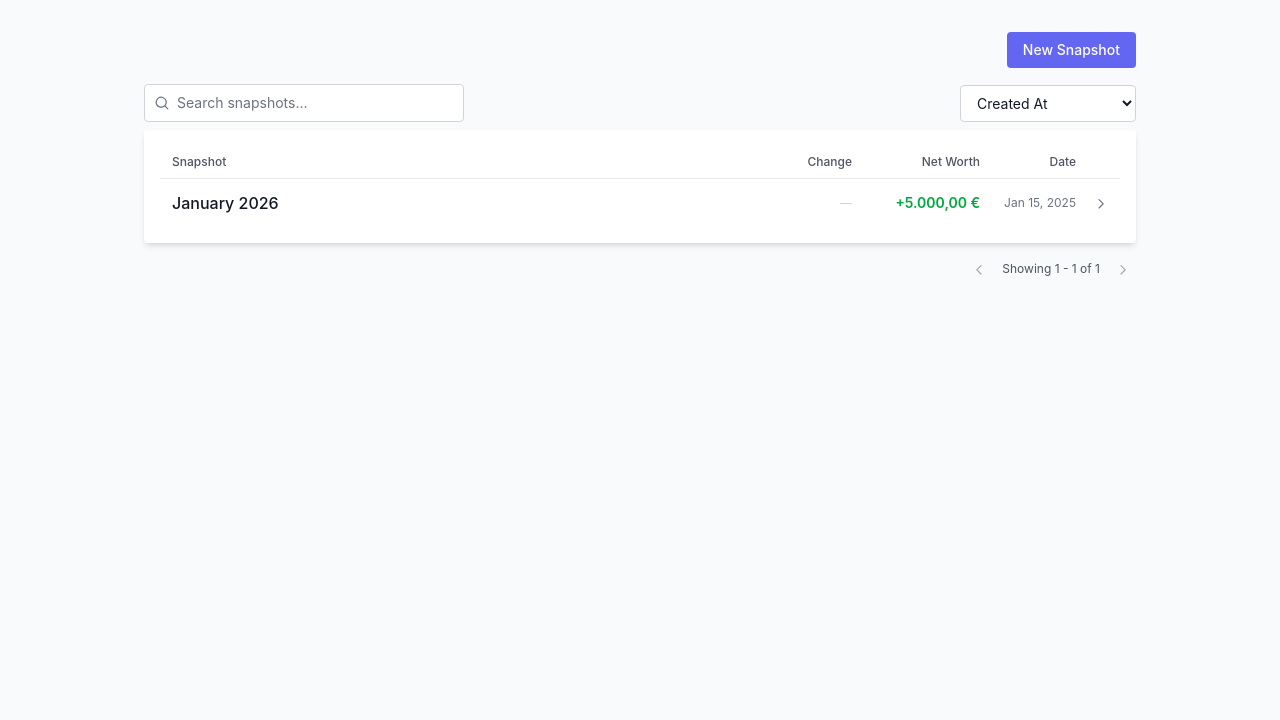
it: NetWorth › create snapshot modal › closes modal when Cancel is clicked
Click the button "New Snapshot" at (1071, 50), box [1007,32,1136,68]
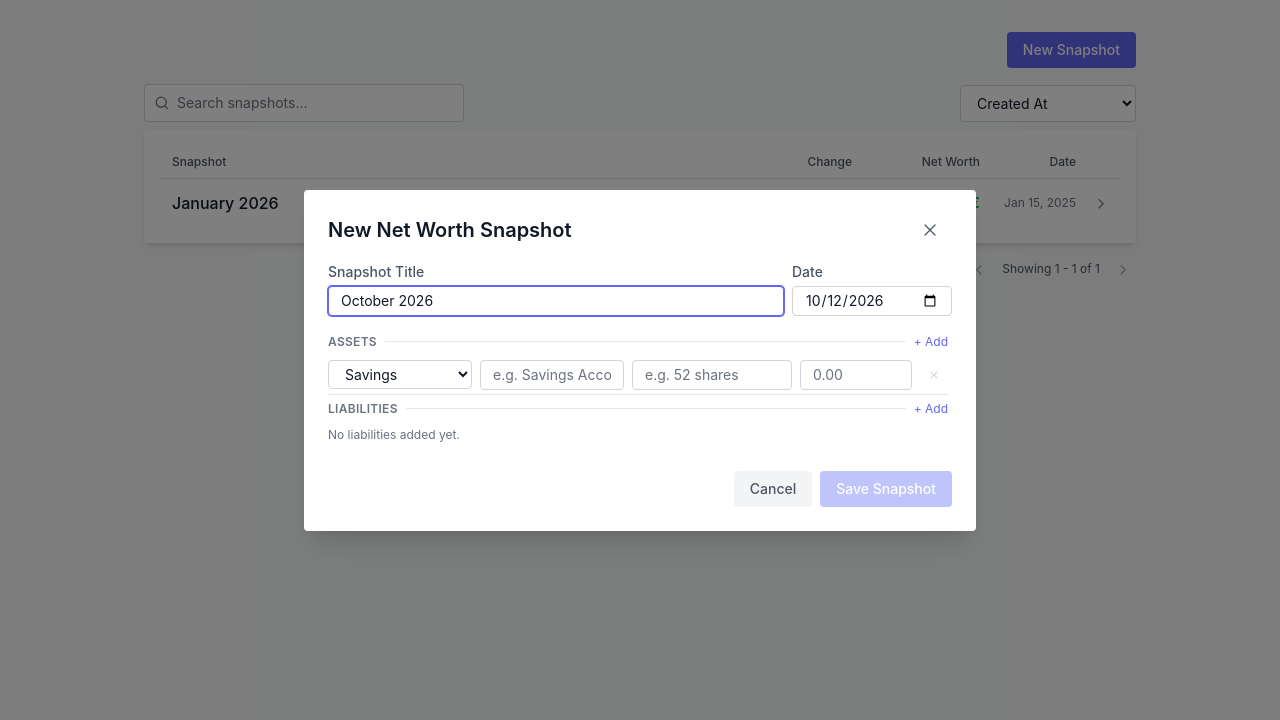
Click the button "Cancel" at (773, 488), box [734,470,812,506]
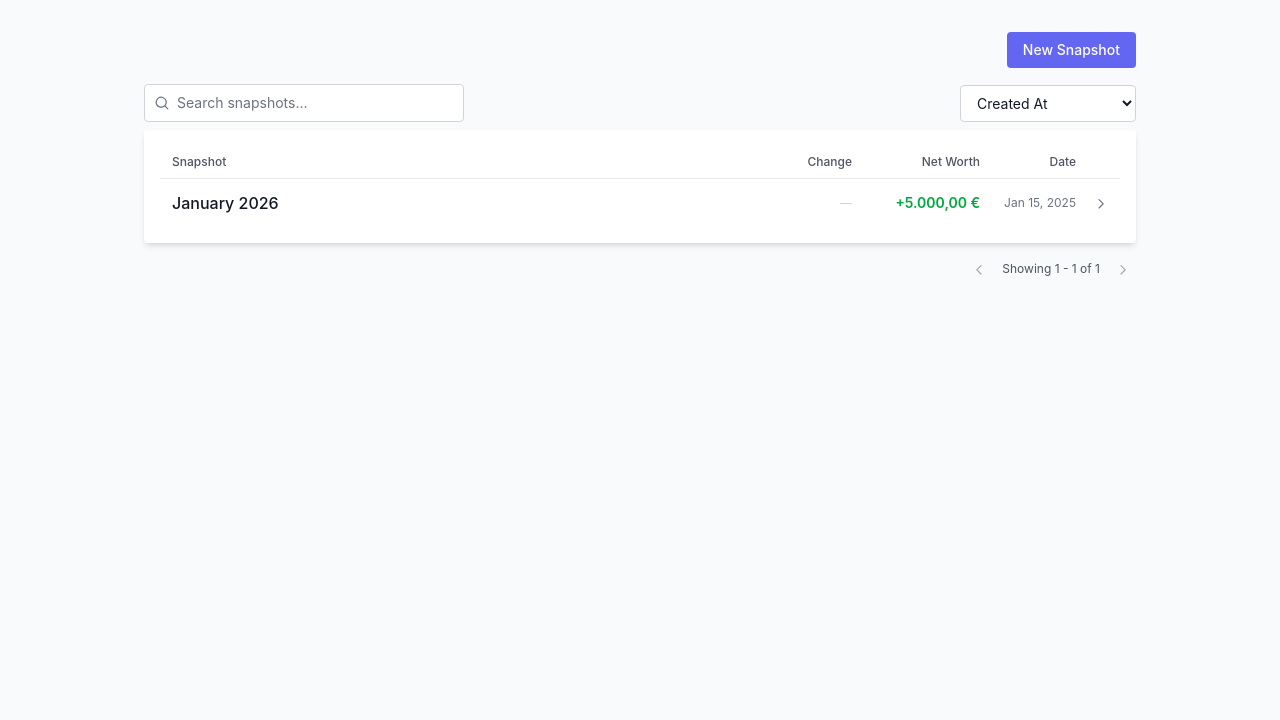
Result: the heading "New Net Worth Snapshot" is gone
